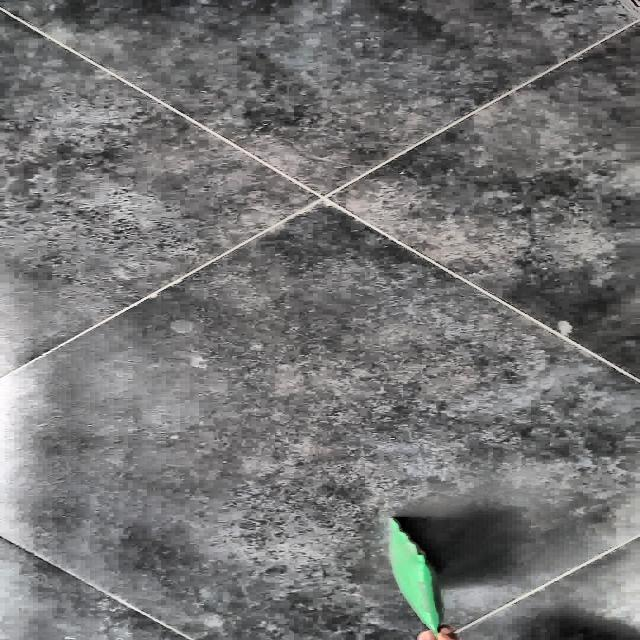payload: (391, 518, 441, 632)
